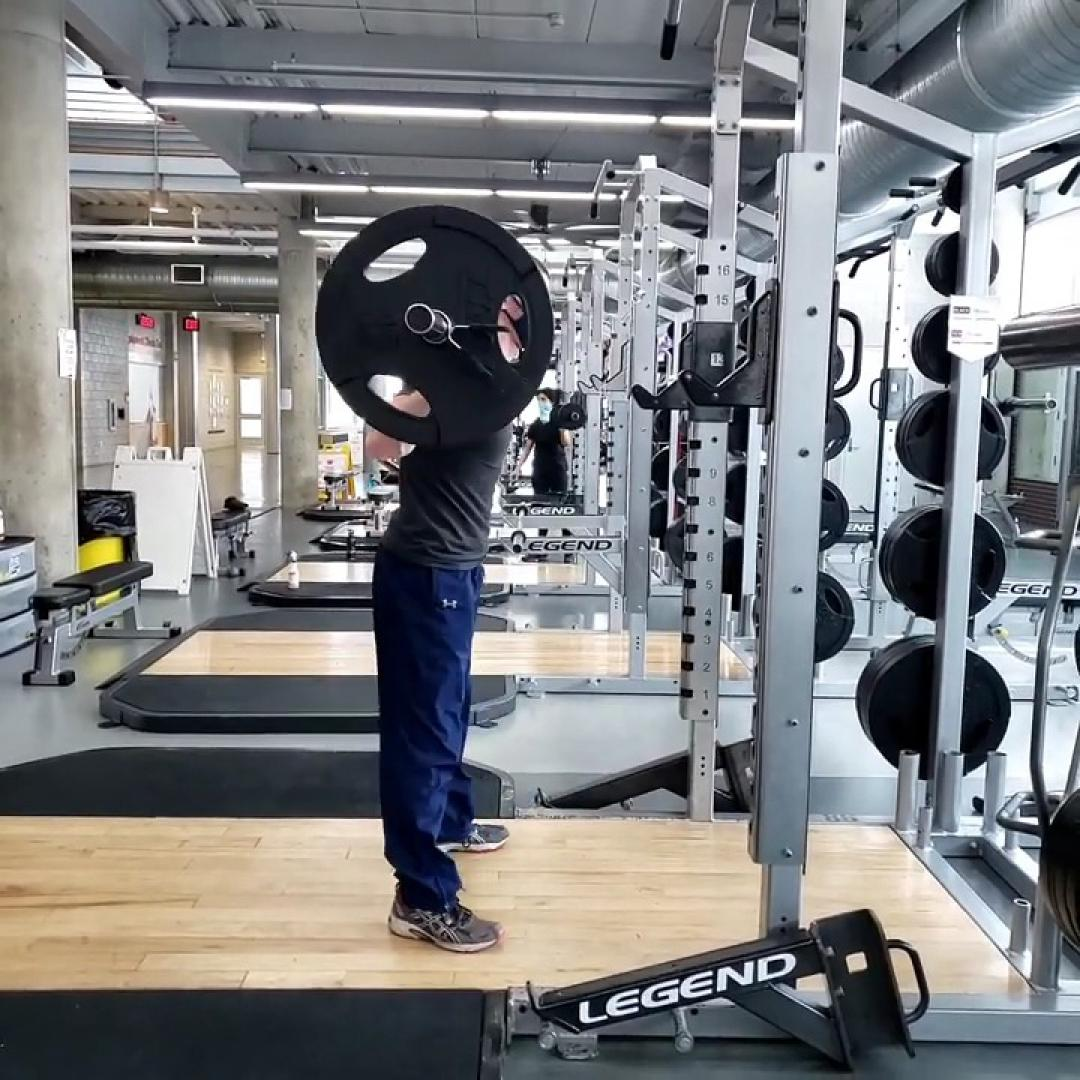Bar: (402, 303, 435, 335)
Barbell: (315, 206, 553, 446)
